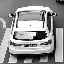motor: (15, 6, 52, 59)
